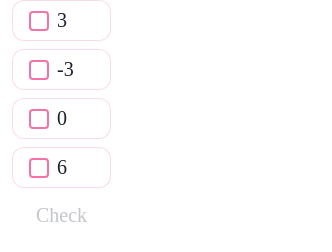
Test: MultiSelectMC › after Check is pressed, options show green/red feedback via testIDs
Click the checkbox "3": (62, 20) [12,0,111,41]
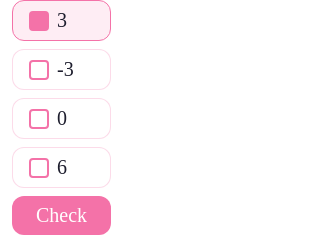
Click the checkbox "-3": (62, 70) [12,49,111,90]
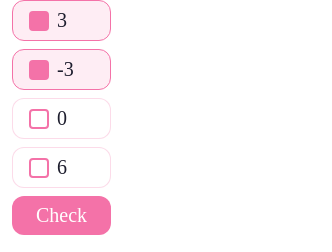
Click the button with test id "multiselectmc-check-button": (62, 216) [12,196,111,235]
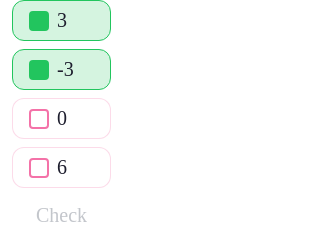
Expected: the checkbox with test id "multiselectmc-option-0-correct" is shown, [12,0,111,41]
Expected: the checkbox with test id "multiselectmc-option-1-correct" is shown, [12,49,111,90]
